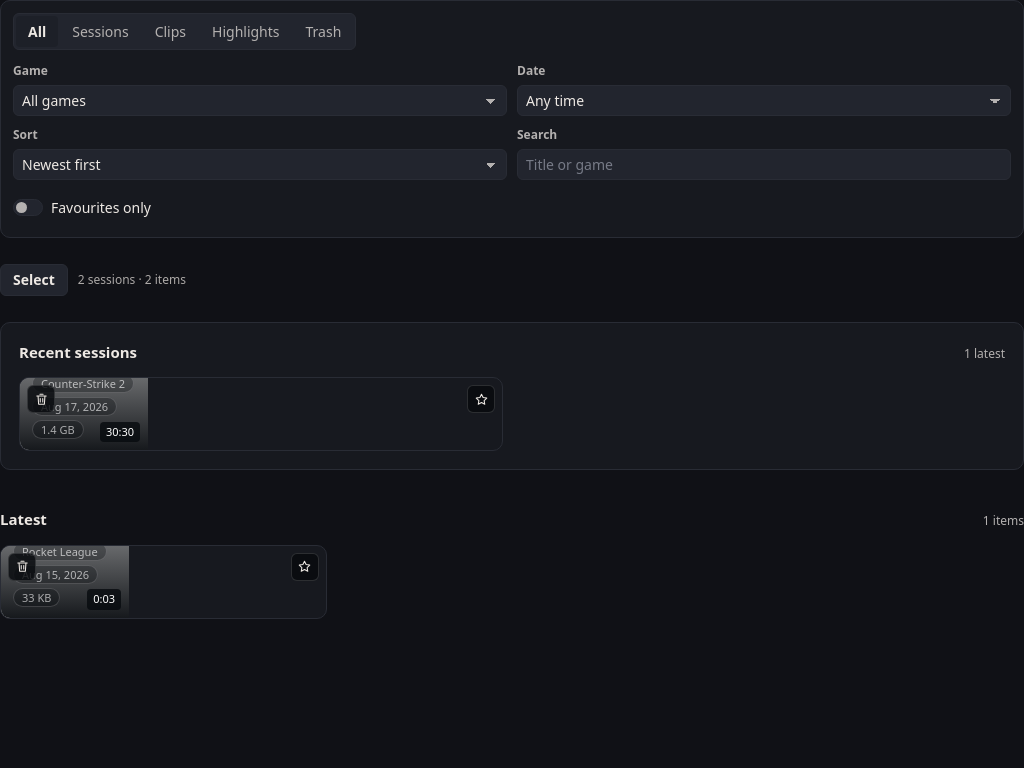
it: LibraryView delete and selection › confirms a per-item delete before sending anything, and cancels cleanly
This screenshot has width=1024, height=768.
Click the button named "Delete Ranked win" at (41, 399), box left=27, top=385, right=55, bottom=413
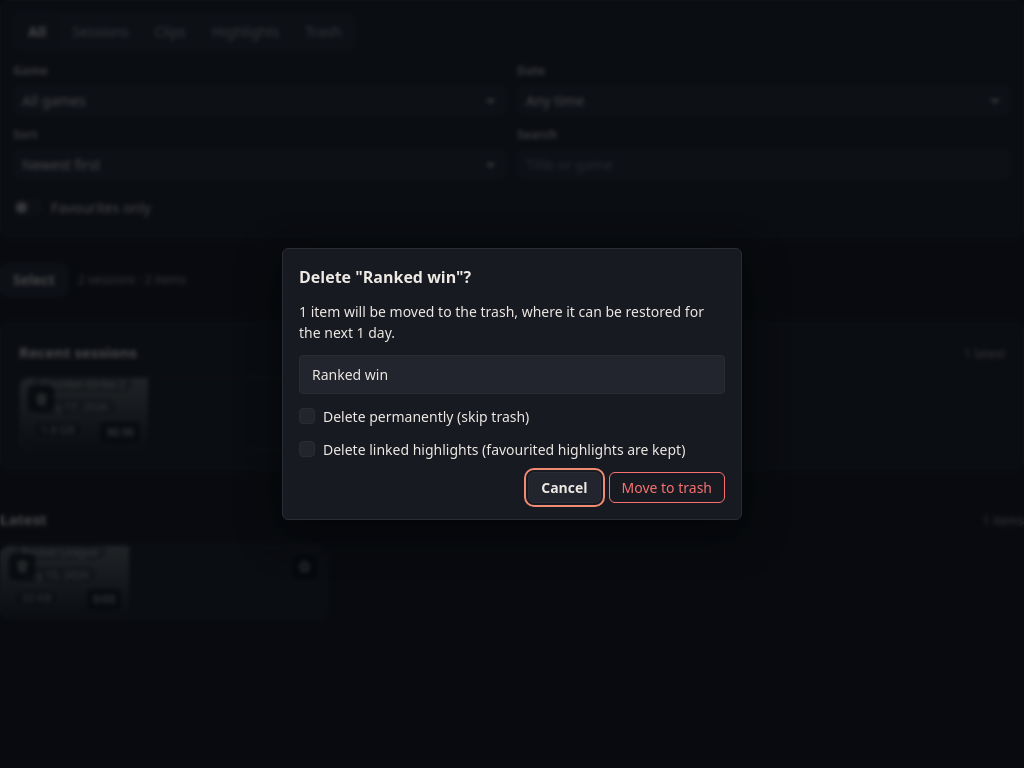
Expected: the text with test id "confirm-delete-notice" shows "moved to the trash", left=299, top=302, right=704, bottom=342
Click the button "Cancel" at (564, 488), box left=528, top=472, right=600, bottom=503
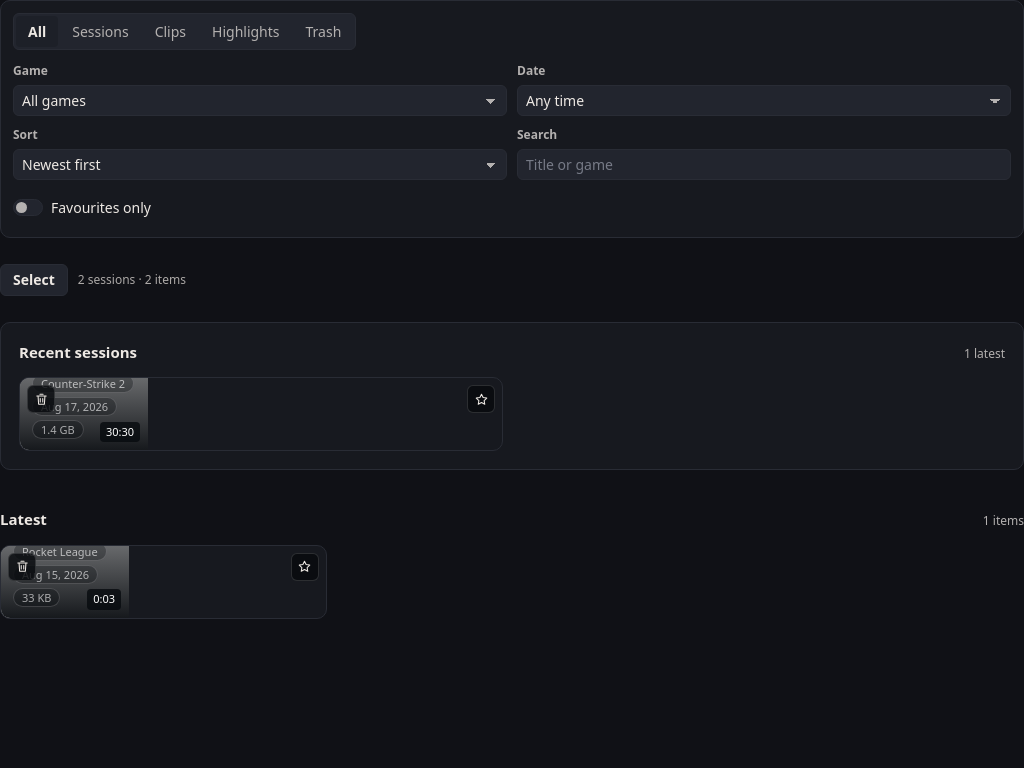
Expected: the dialog with test id "confirm-delete" is gone
